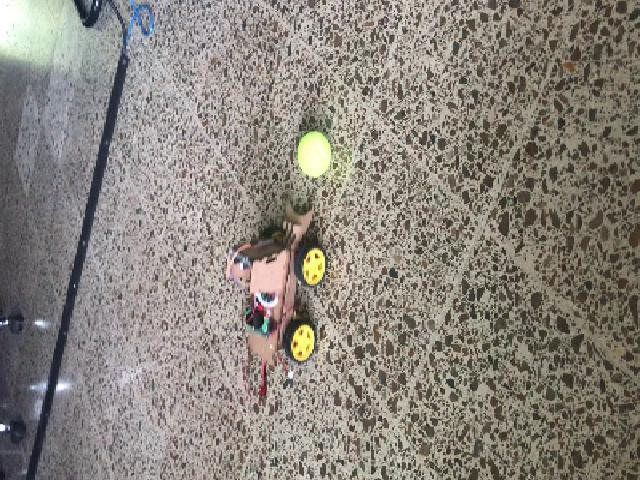Ball: (296, 132, 331, 176)
Robot: (227, 200, 326, 366)
